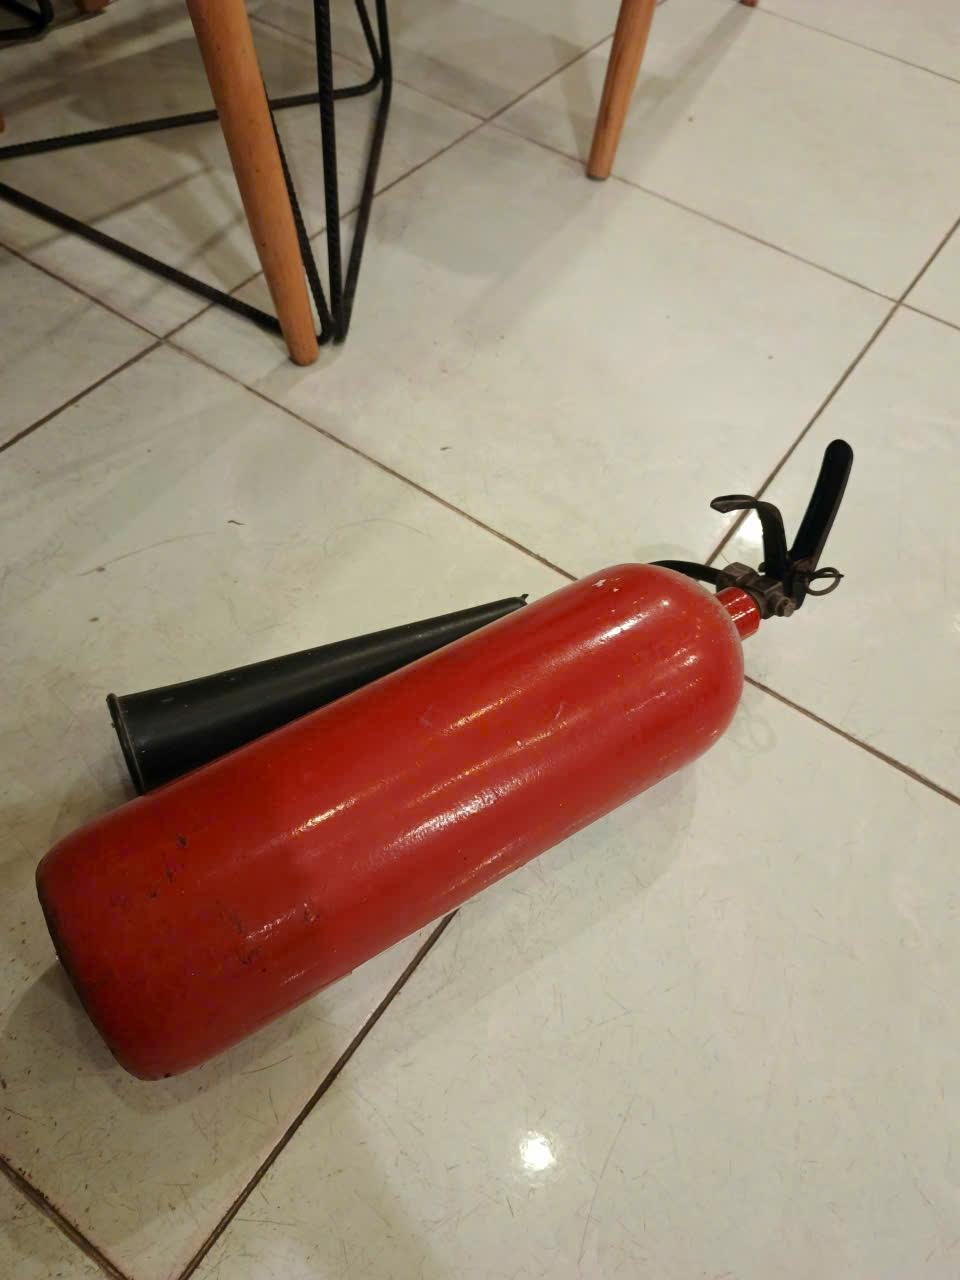Con lai: (35, 435, 856, 1082)
